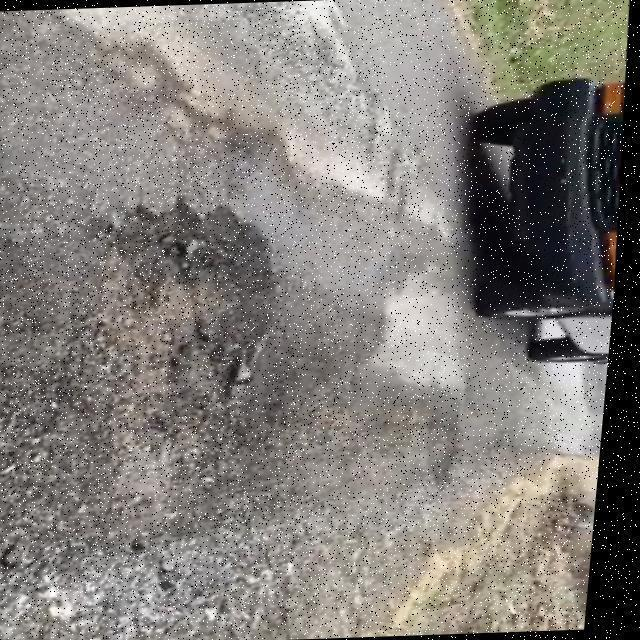Pothole: (95, 204, 284, 417)
